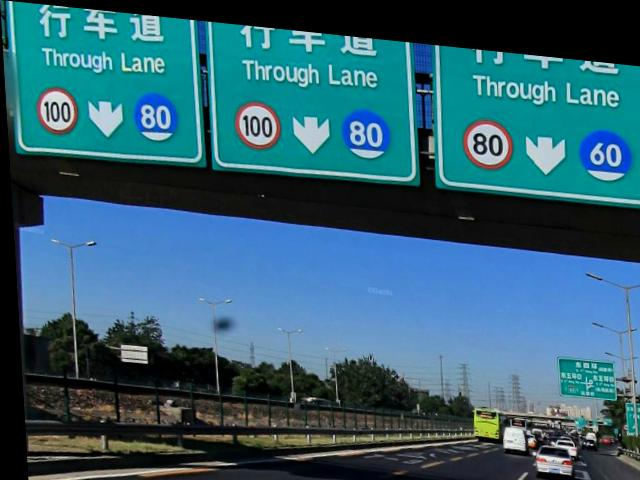limit80: (458, 107, 515, 162)
